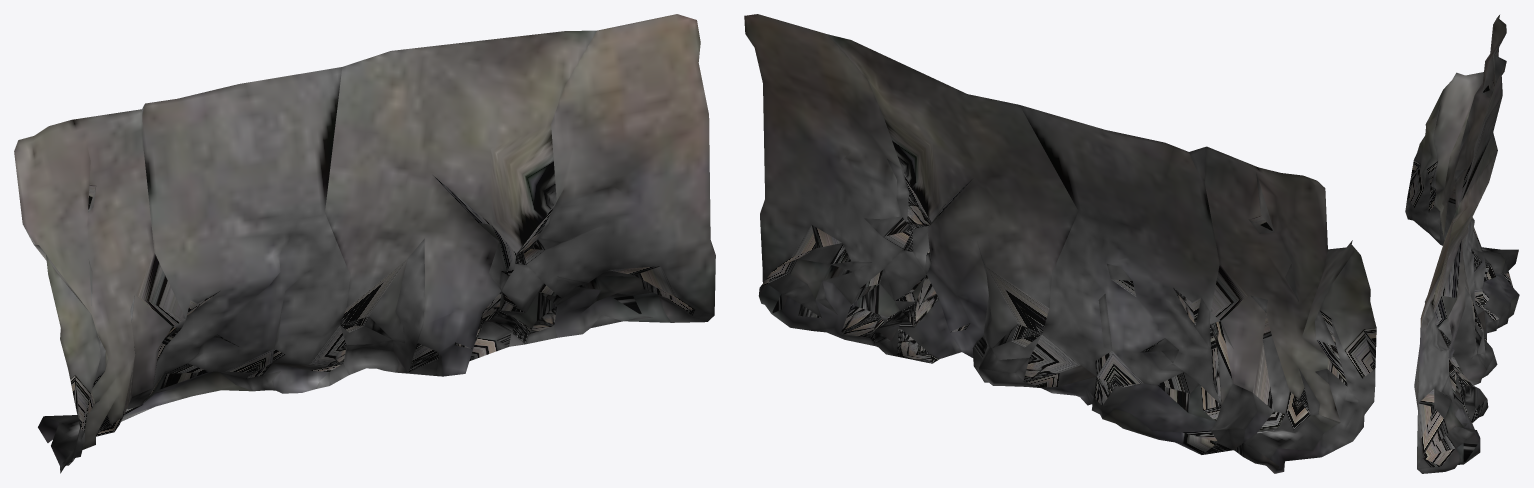
Rendered from bw-rockface-b.lod1.glb.
The picture shows the model from 3 angles, left to right: view 1: azimuth 30°, elevation 25°; view 2: azimuth 150°, elevation 25°; view 3: azimuth 270°, elevation 25°; orthographic projection. The views are drawn at different scales.
Parts seen in each view (by area): view 1: Object_2; view 2: Object_2; view 3: Object_2.
Boxes of the visible parts, bbox=[...] form: Object_2: bbox=[14, 14, 715, 473]; Object_2: bbox=[744, 14, 1376, 473]; Object_2: bbox=[1405, 15, 1519, 473].
Bounding box in the file's own units: 14 × 6.52 × 2.82.
1 material, 1 textured.
